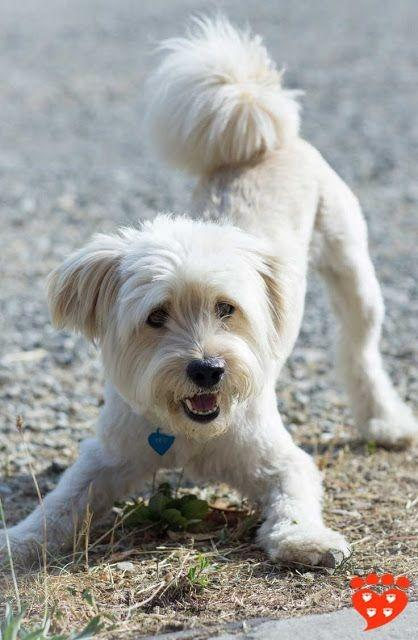adult_dog: (1, 14, 418, 578)
